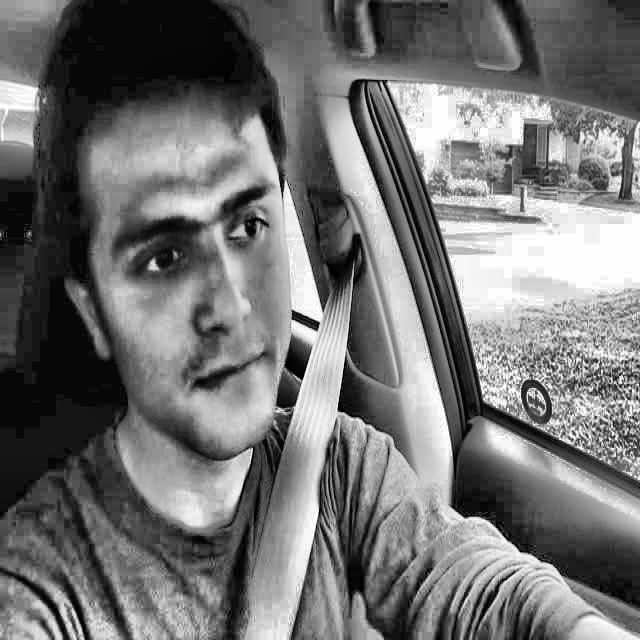closed_mouth: (174, 333, 285, 405)
open_eyes: (216, 202, 300, 269), (120, 239, 200, 296)
